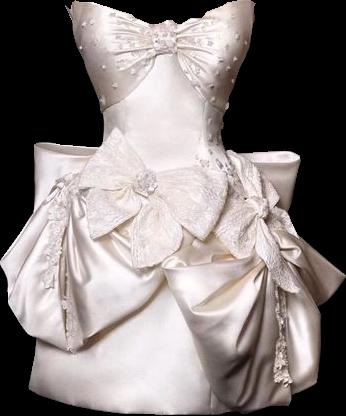Bodice: (66, 0, 254, 193)
Hemline: (0, 260, 323, 415)
Neckline: (65, 0, 254, 28)
Skirt: (0, 174, 320, 414)
